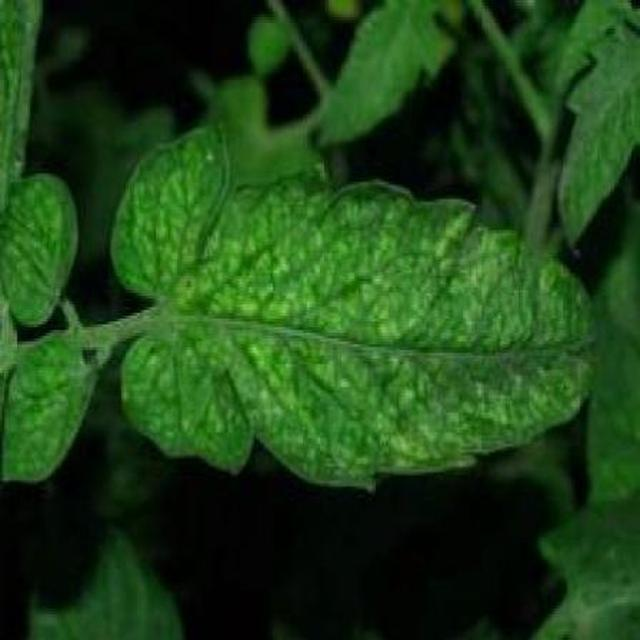Spider Mites Leaf: (58, 223, 640, 579)
